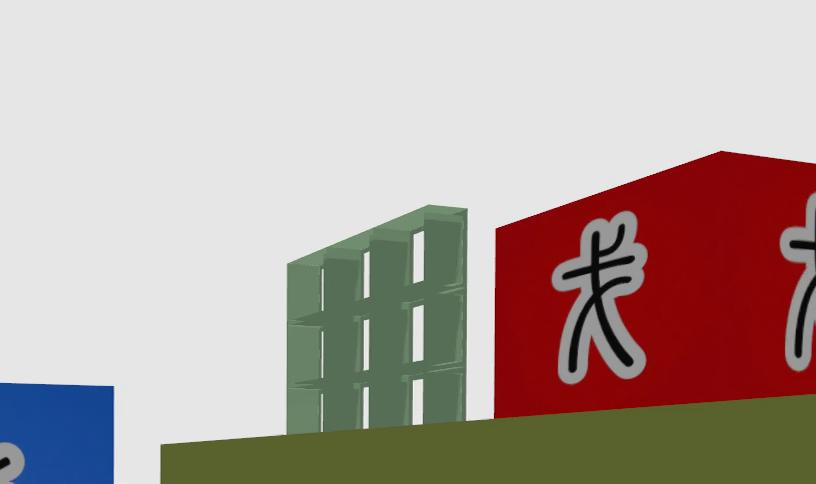KFS_FAKE: (495, 152, 815, 417), (553, 211, 647, 384), (781, 193, 815, 370)
KFS_REAL: (0, 384, 113, 484), (0, 443, 24, 484)
